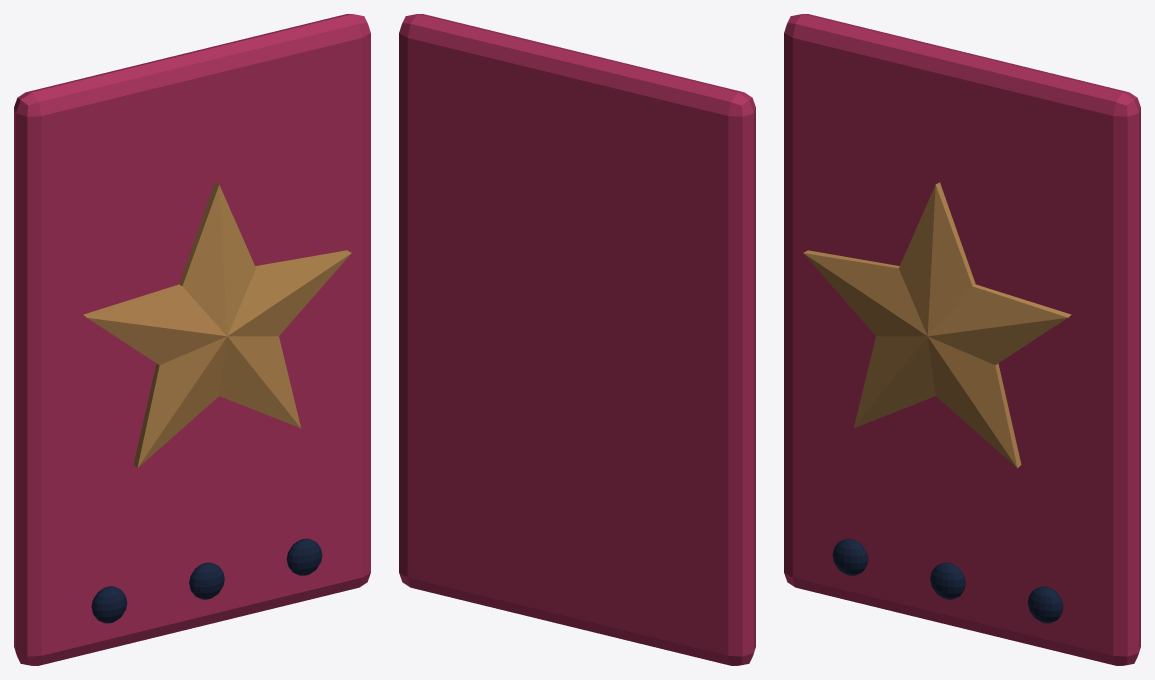
The model's file is Item_jackpot_coupon.fbx.
3 views of the same model, side by side, from view 1: azimuth 30°, elevation 25°; view 2: azimuth 150°, elevation 25°; view 3: azimuth 330°, elevation 25° (orthographic).
Parts seen in each view (by area): view 1: Item_jackpot_coupon.Mesh; view 2: Item_jackpot_coupon.Mesh; view 3: Item_jackpot_coupon.Mesh.
Part boxes in pixels (x1,y1,x2,y2): Item_jackpot_coupon.Mesh: (14, 14, 370, 665); Item_jackpot_coupon.Mesh: (399, 14, 755, 665); Item_jackpot_coupon.Mesh: (784, 14, 1140, 665).
Bounding box in the file's own units: 38 × 59 × 8.25.
